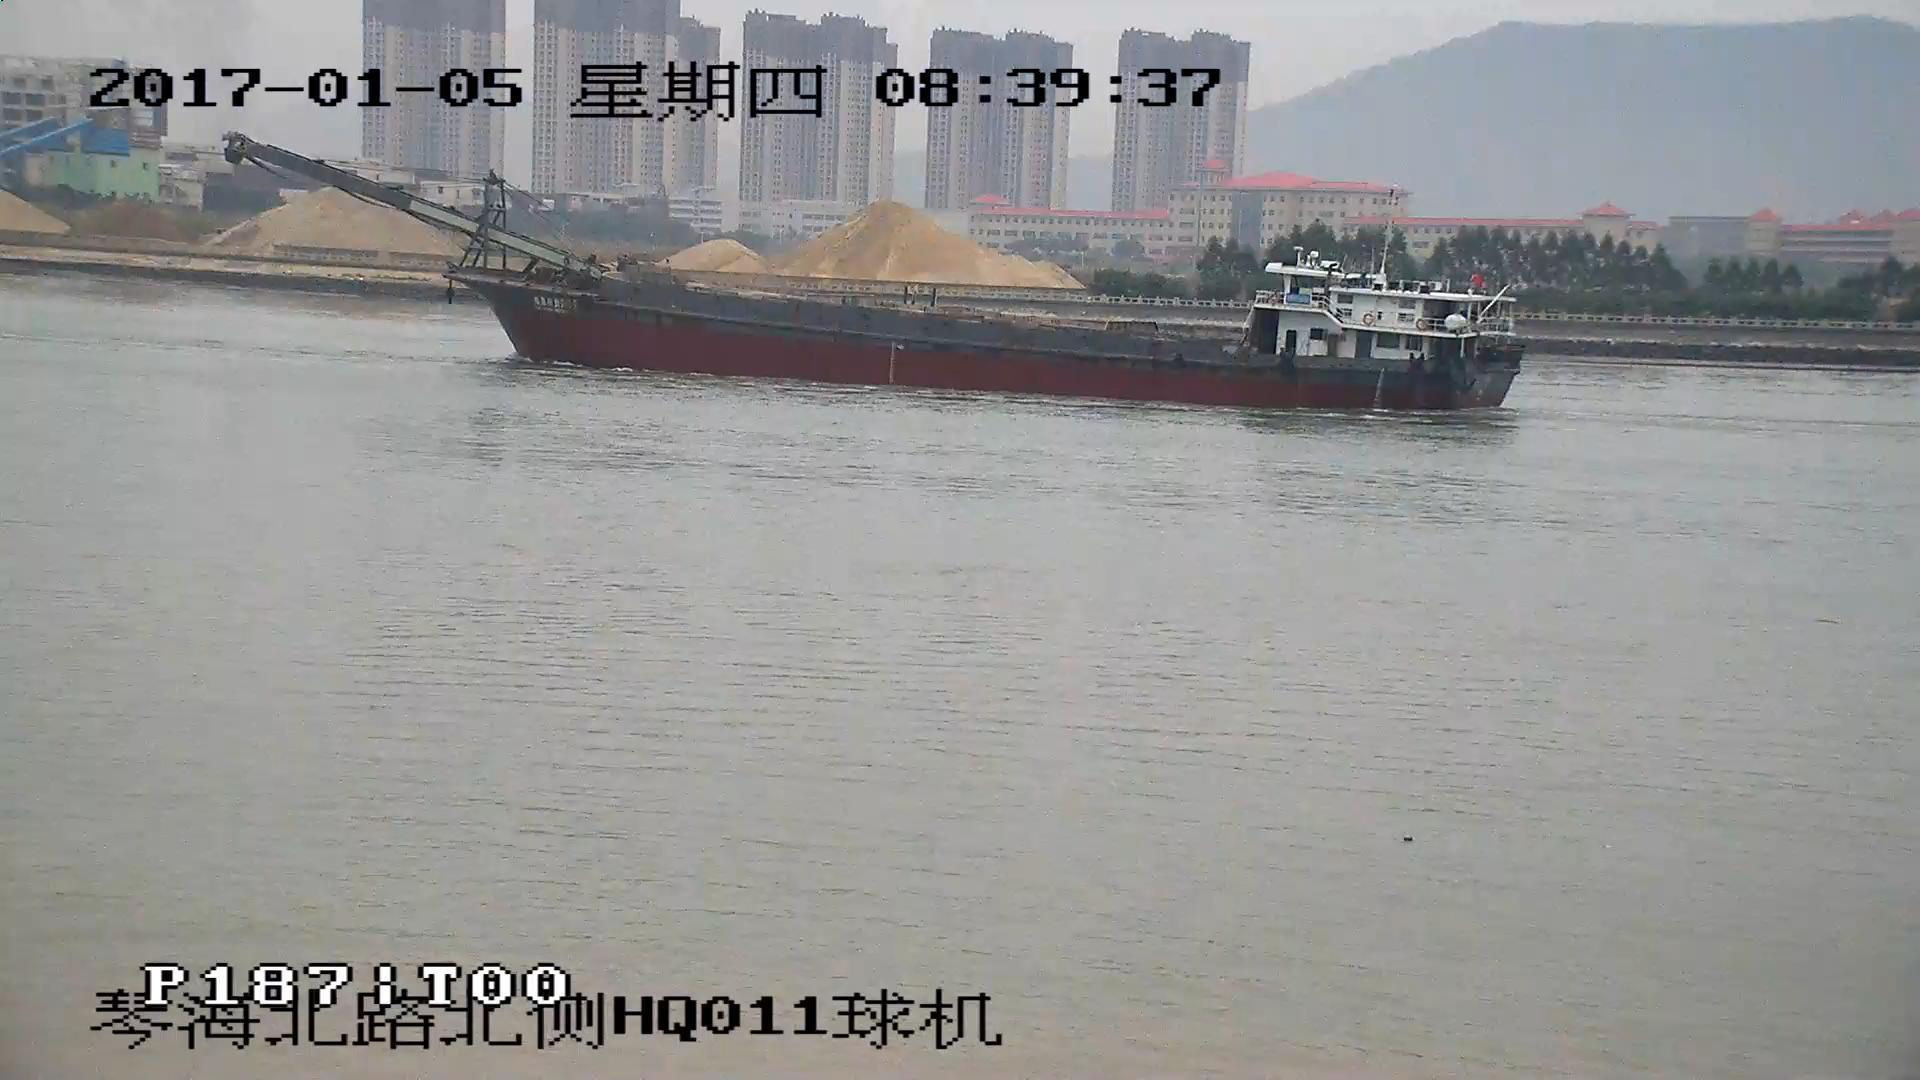Ship: (225, 138, 1527, 411)
